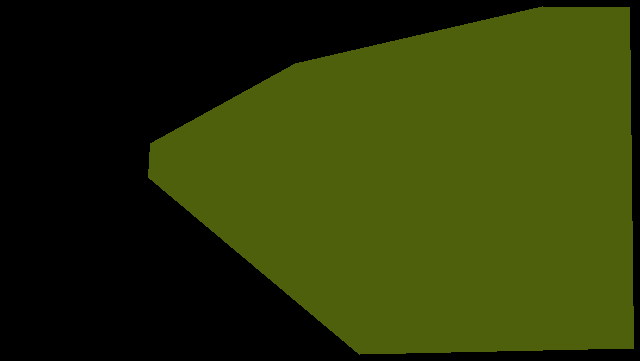Train: (148, 6, 633, 354)
